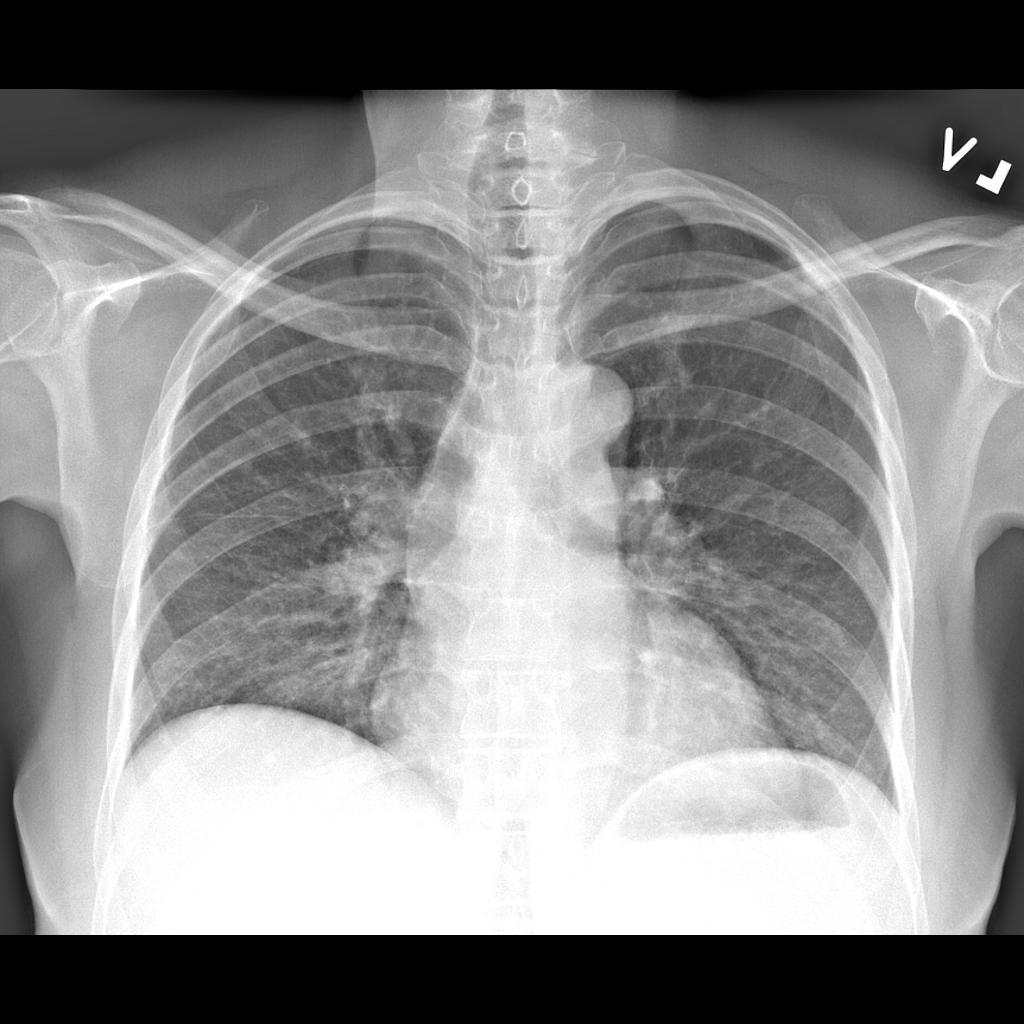Nodule: (312, 544, 389, 609)
